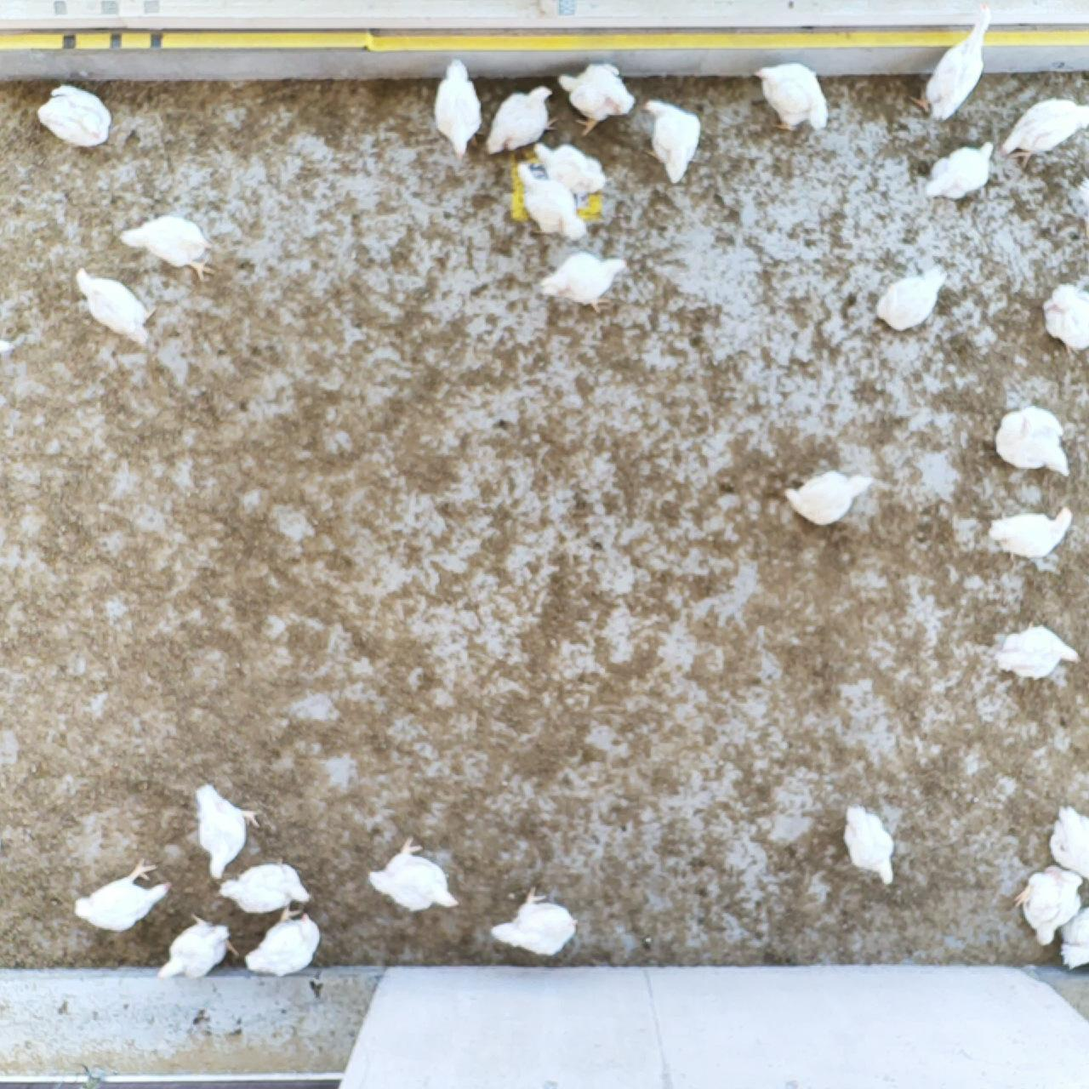chicken: (906, 3, 995, 124), (362, 833, 459, 918), (70, 856, 172, 936), (189, 781, 264, 883), (73, 264, 159, 349), (489, 883, 585, 959), (114, 213, 218, 282), (509, 158, 591, 245), (990, 402, 1080, 481), (532, 247, 635, 314), (154, 911, 244, 985), (554, 59, 637, 139), (995, 95, 1089, 165), (752, 58, 831, 139), (479, 82, 561, 160), (991, 615, 1085, 683), (244, 906, 326, 983), (1013, 858, 1082, 949), (637, 96, 706, 185), (217, 857, 316, 919), (781, 466, 876, 530), (430, 58, 488, 161), (983, 501, 1076, 563), (838, 799, 901, 888), (32, 84, 112, 152), (872, 264, 949, 333), (919, 139, 1002, 203), (529, 140, 613, 197), (1038, 274, 1089, 358), (1045, 800, 1089, 895), (1054, 891, 1089, 980)
